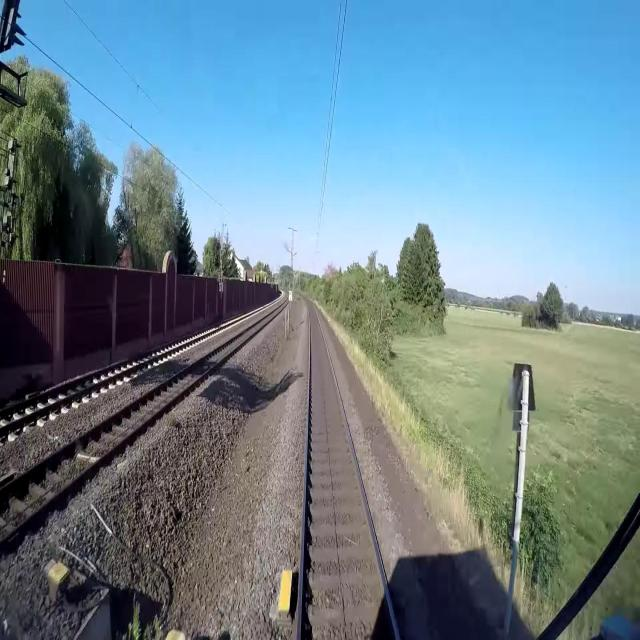rail-track: (0, 300, 287, 537), (301, 297, 396, 639), (0, 331, 205, 424)
